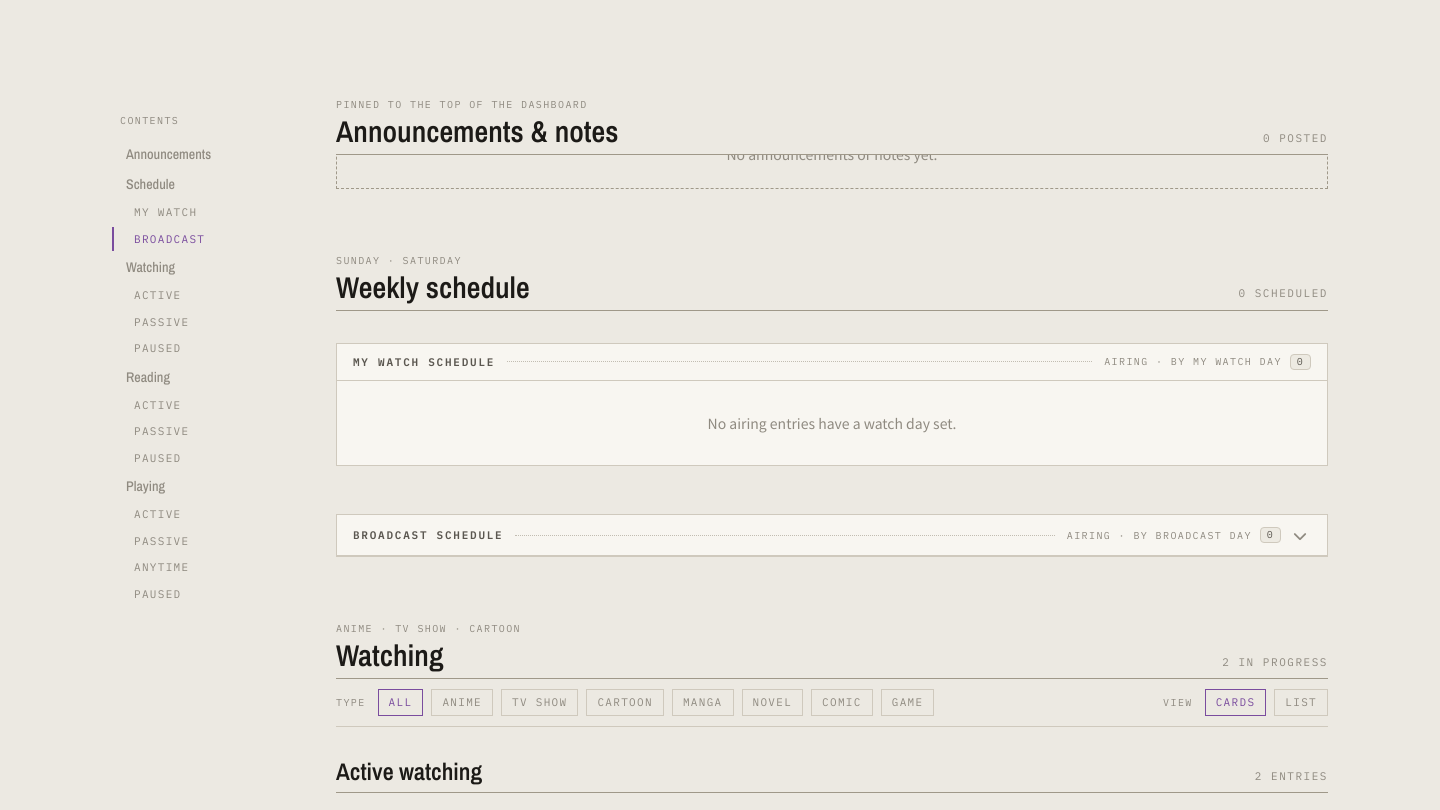
Test case: picking a type filters both divisions to that type only
Step 1. Click the button "Anime" → (462, 702), box top-left (431, 689), bottom-right (493, 716)
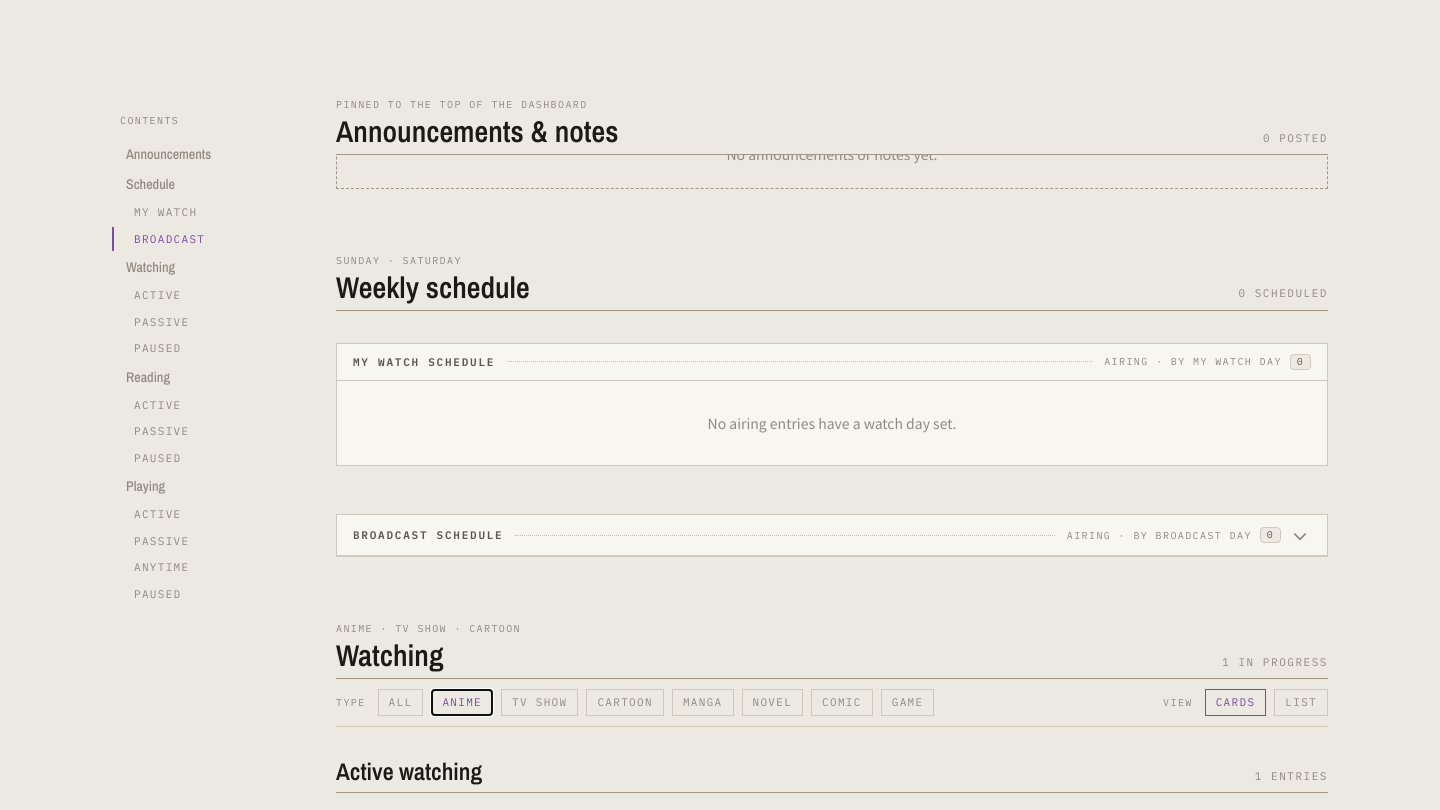
Check: the text "Berserk" is not shown
Clicking the active type again returns to All
Step 2. Click the button "Anime" → (462, 702), box top-left (431, 689), bottom-right (493, 716)
(page scrolled)
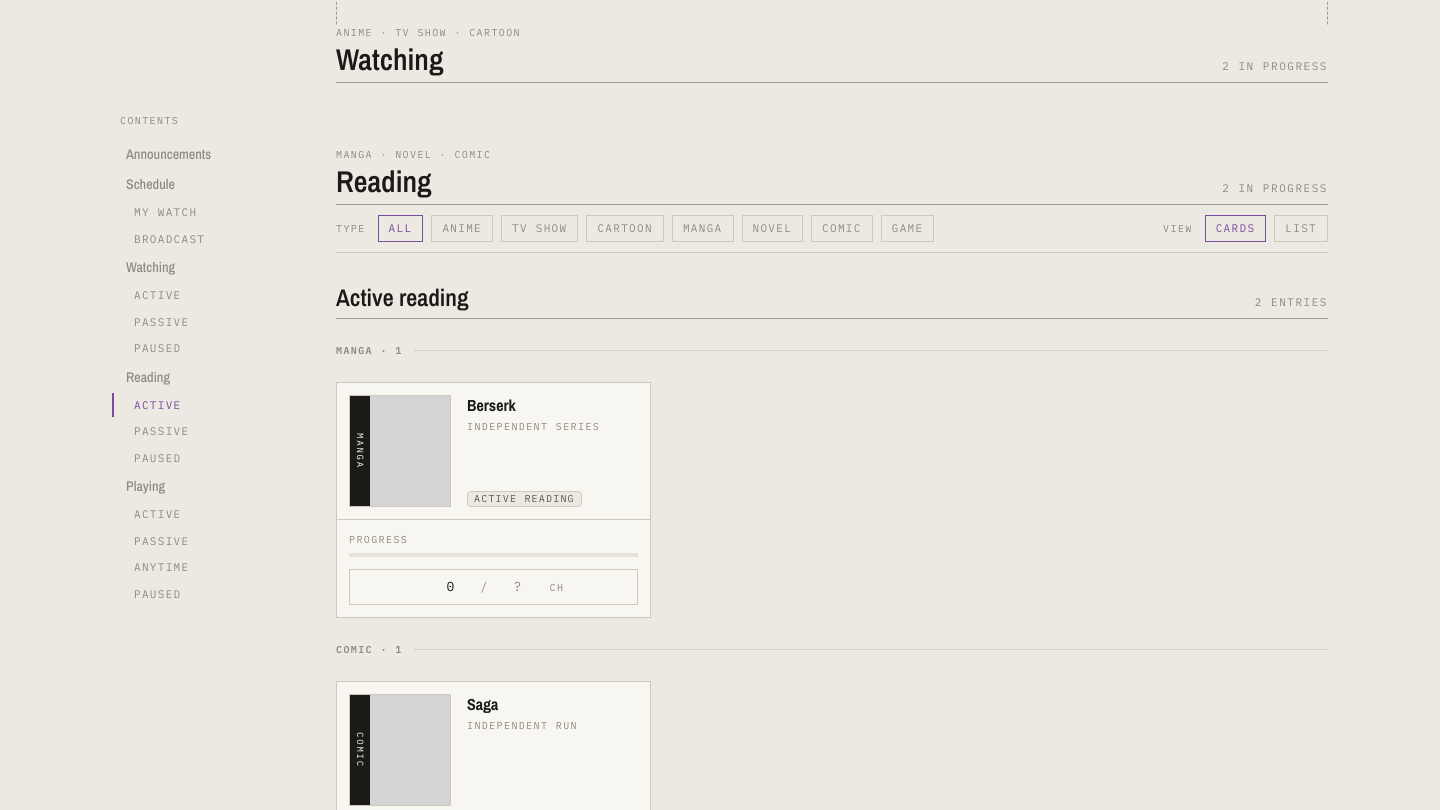
Check: the heading "Berserk" is shown, box top-left (467, 394), bottom-right (516, 416)
